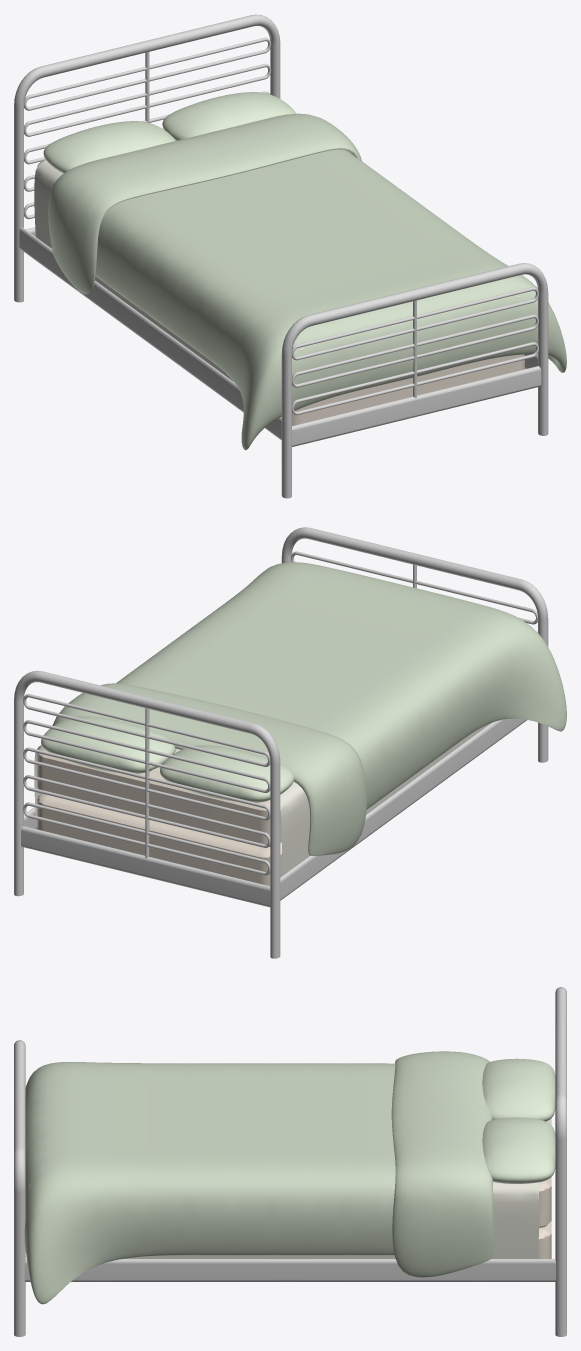
The model's file is sh_blend_swap_cc_0_bed1.glb.
3 views of the same model, one above another, from view 1: azimuth 30°, elevation 25°; view 2: azimuth 150°, elevation 25°; view 3: azimuth 270°, elevation 25° (orthographic).
Bounding box in the file's own units: 1.41 × 0.955 × 2.08.
